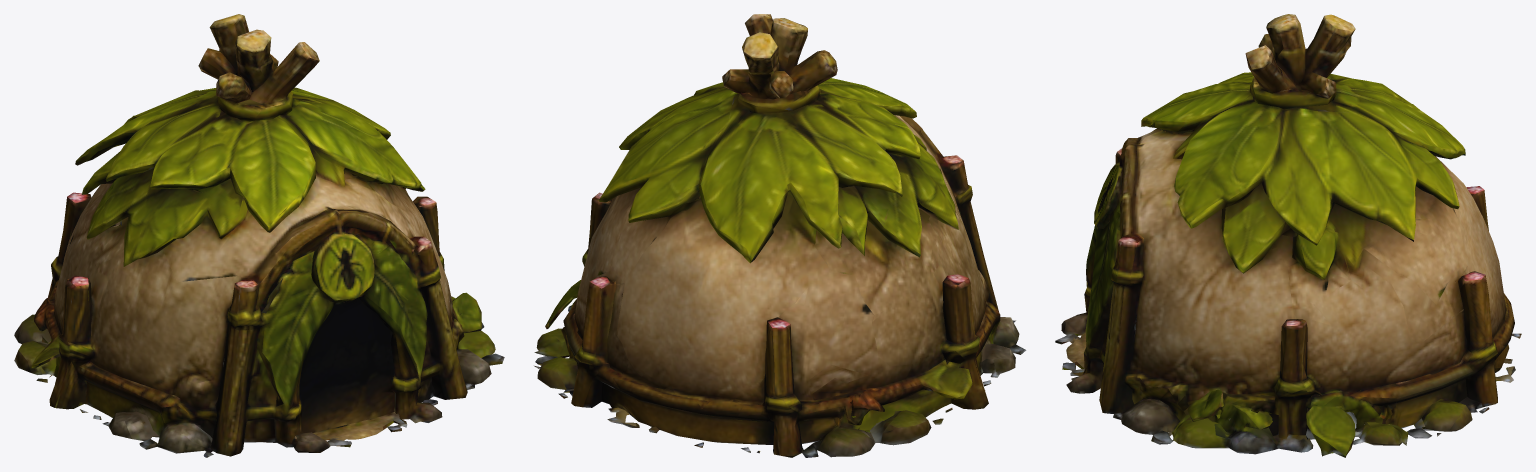
Rendered from TrainingHut.glb.
3 renders of one model, left to right at view 1: azimuth 30°, elevation 25°; view 2: azimuth 150°, elevation 25°; view 3: azimuth 270°, elevation 25°, orthographic. The views are drawn at different scales.
Bounding box in the file's own units: 1.98 × 1.54 × 1.93.
1 material, 1 textured.
